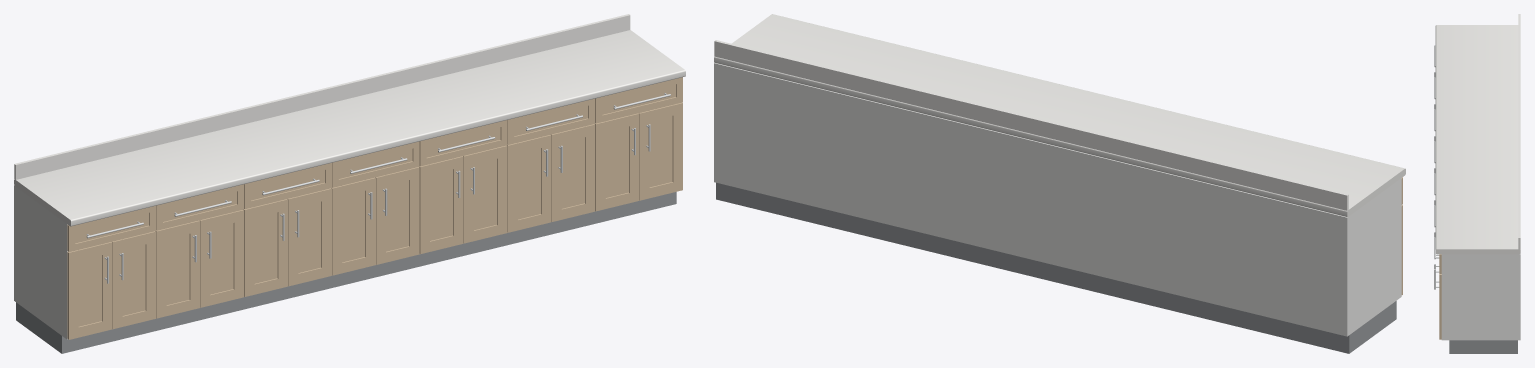
3 renders of one model, left to right at view 1: azimuth 30°, elevation 25°; view 2: azimuth 150°, elevation 25°; view 3: azimuth 270°, elevation 25°, orthographic. The views are drawn at different scales.
Visible parts, largest first — view 1: Tủ bếp dưới Dài=3900; Sâu=580; view 2: Tủ bếp dưới Dài=3900; Sâu=580; view 3: Tủ bếp dưới Dài=3900; Sâu=580.
Boxes of the visible parts, x1,y1,x2,y2 form: Tủ bếp dưới Dài=3900; Sâu=580: (14,14,685,353); Tủ bếp dưới Dài=3900; Sâu=580: (714,14,1405,353); Tủ bếp dưới Dài=3900; Sâu=580: (1434,14,1520,353).
Bounding box in the file's own units: 3.9 × 0.94 × 0.635.
